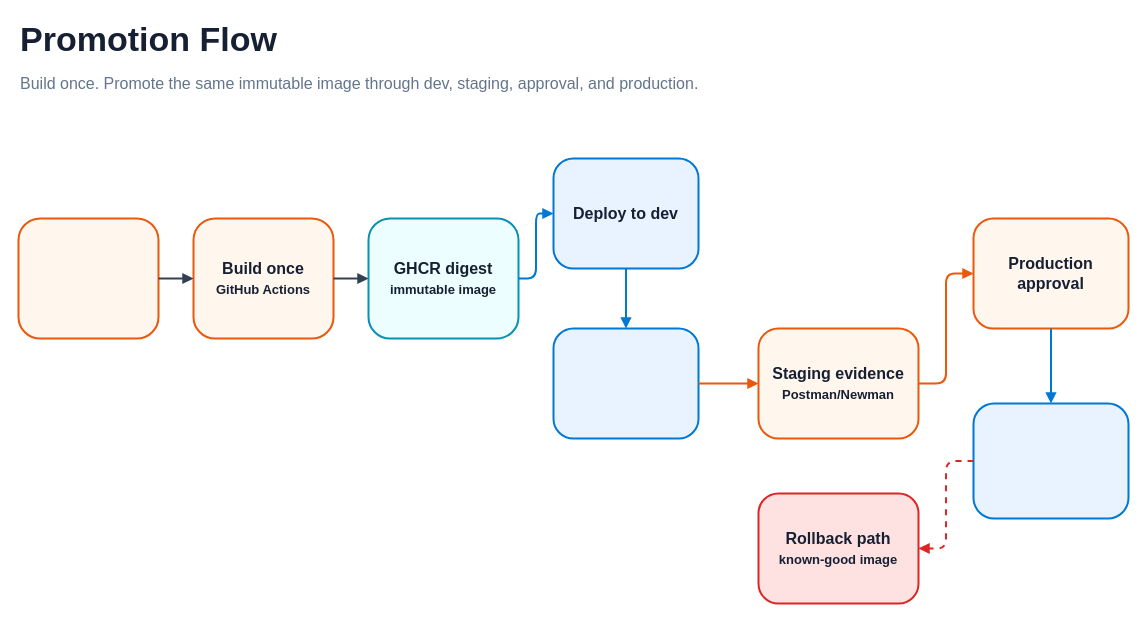
This 1146x621 diagram has some shape labels left out. Here are the shapes that lost their labels. From the top down, the box of each, then its label:
(17, 217, 159, 339): Pull Request review + checks
(552, 327, 699, 439): Promote to staging
(972, 402, 1129, 519): Promote same image to prod
